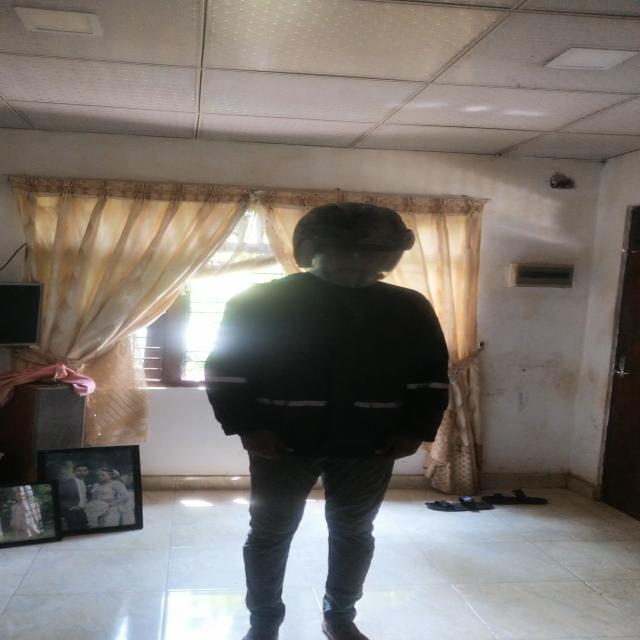Helmet_Wearer: (277, 202, 412, 292)
Jacket_Wearer: (205, 264, 470, 482)
Person: (202, 191, 459, 640)
